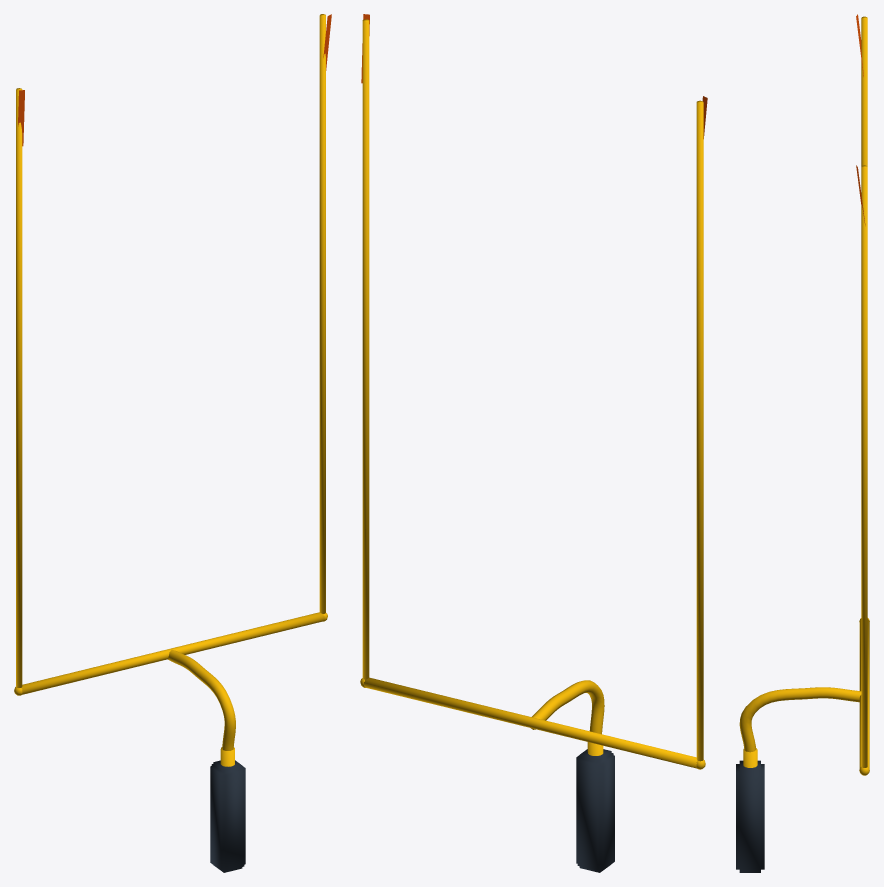
The model's file is goalpost_nfl.glb.
3 views of the same model, side by side, from view 1: azimuth 30°, elevation 25°; view 2: azimuth 150°, elevation 25°; view 3: azimuth 270°, elevation 25° (orthographic). The views are drawn at different scales.
Visible parts, largest first — view 1: goalpost_nfl__prop_gold, goalpost_nfl__tint_team_primary; view 2: goalpost_nfl__prop_gold, goalpost_nfl__tint_team_primary; view 3: goalpost_nfl__prop_gold, goalpost_nfl__tint_team_primary.
Boxes of the visible parts, x1,y1,x2,y2 form: goalpost_nfl__prop_gold: [14, 14, 327, 766]; goalpost_nfl__tint_team_primary: [210, 760, 245, 872]; goalpost_nfl__prop_gold: [360, 19, 705, 769]; goalpost_nfl__tint_team_primary: [576, 749, 614, 872]; goalpost_nfl__prop_gold: [739, 16, 869, 775]; goalpost_nfl__tint_team_primary: [736, 760, 764, 872].
Size of the model in its own units: 5.83 by 13.76 by 2.14.
